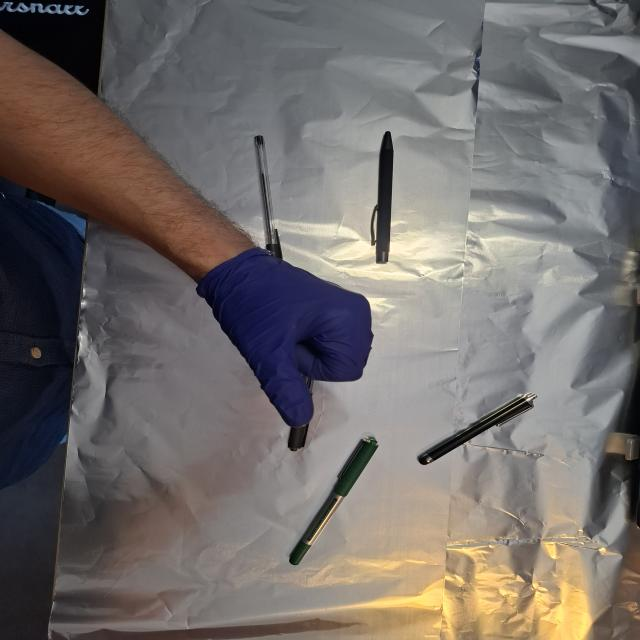glove_on: (196, 244, 378, 431)
